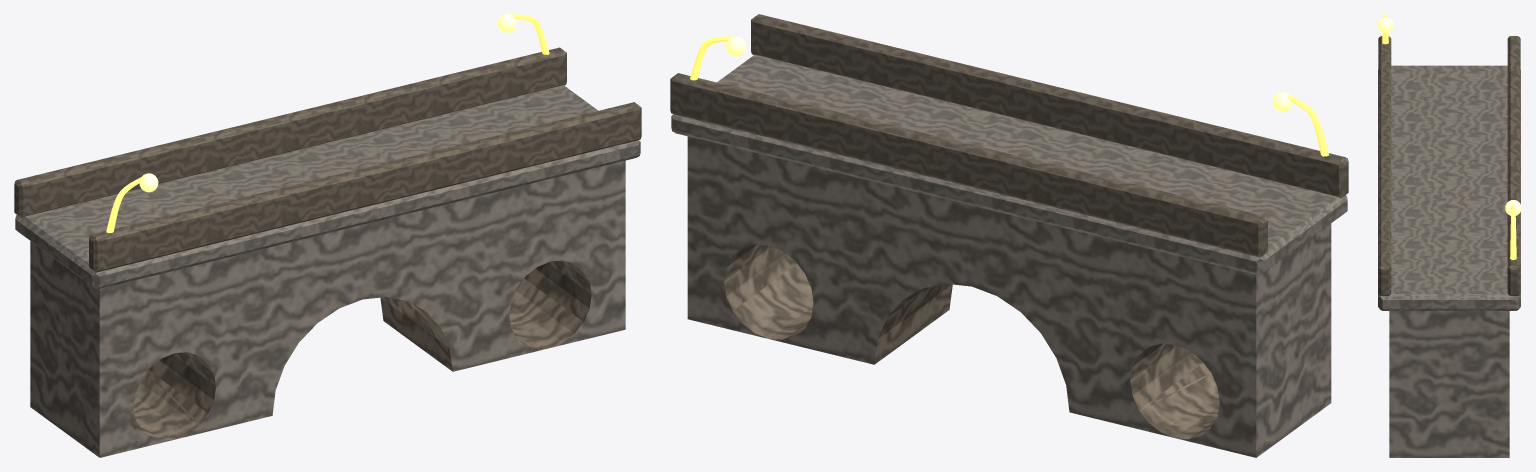
File: archway_bridge.glb
3 renders of one model, left to right at view 1: azimuth 30°, elevation 25°; view 2: azimuth 150°, elevation 25°; view 3: azimuth 270°, elevation 25°, orthographic. The views are drawn at different scales.
Parts seen in each view (by area): view 1: archway_bridge; view 2: archway_bridge; view 3: archway_bridge.
Part boxes in pixels (box(x1,y1,x2,y2)): archway_bridge: box(14, 14, 641, 457); archway_bridge: box(670, 14, 1348, 457); archway_bridge: box(1377, 14, 1521, 457).
Bounding box in the file's own units: 14.6 × 6.97 × 3.84.
3 materials, 2 textured.
